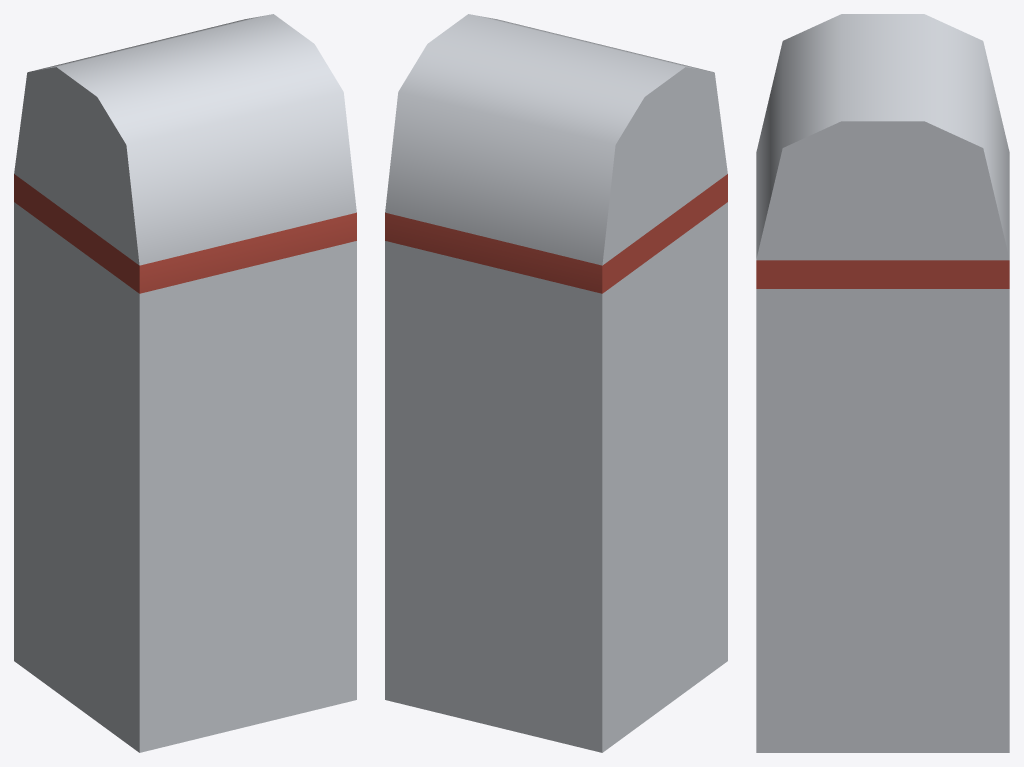
Rendered from Small_Road_Block_004.glb.
The picture shows the model from 3 angles, left to right: view 1: azimuth 30°, elevation 25°; view 2: azimuth 150°, elevation 25°; view 3: azimuth 270°, elevation 25°; orthographic projection.
Parts seen in each view (by area): view 1: Small Road Block.004; view 2: Small Road Block.004; view 3: Small Road Block.004.
Boxes of the visible parts, x1,y1,x2,y2 form: Small Road Block.004: (14,14,356,752); Small Road Block.004: (385,14,727,752); Small Road Block.004: (756,14,1009,752).
Size of the model in its own units: 2 by 5.5 by 2.
1 material, 1 textured.
